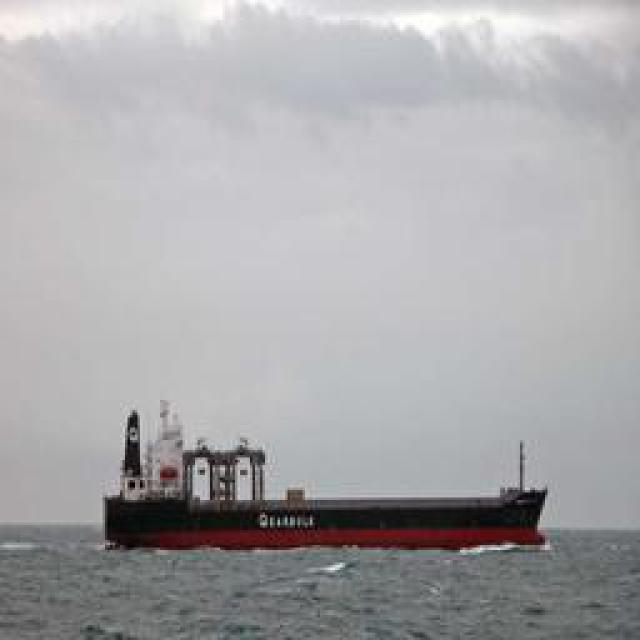Ship: (104, 412, 549, 555)
